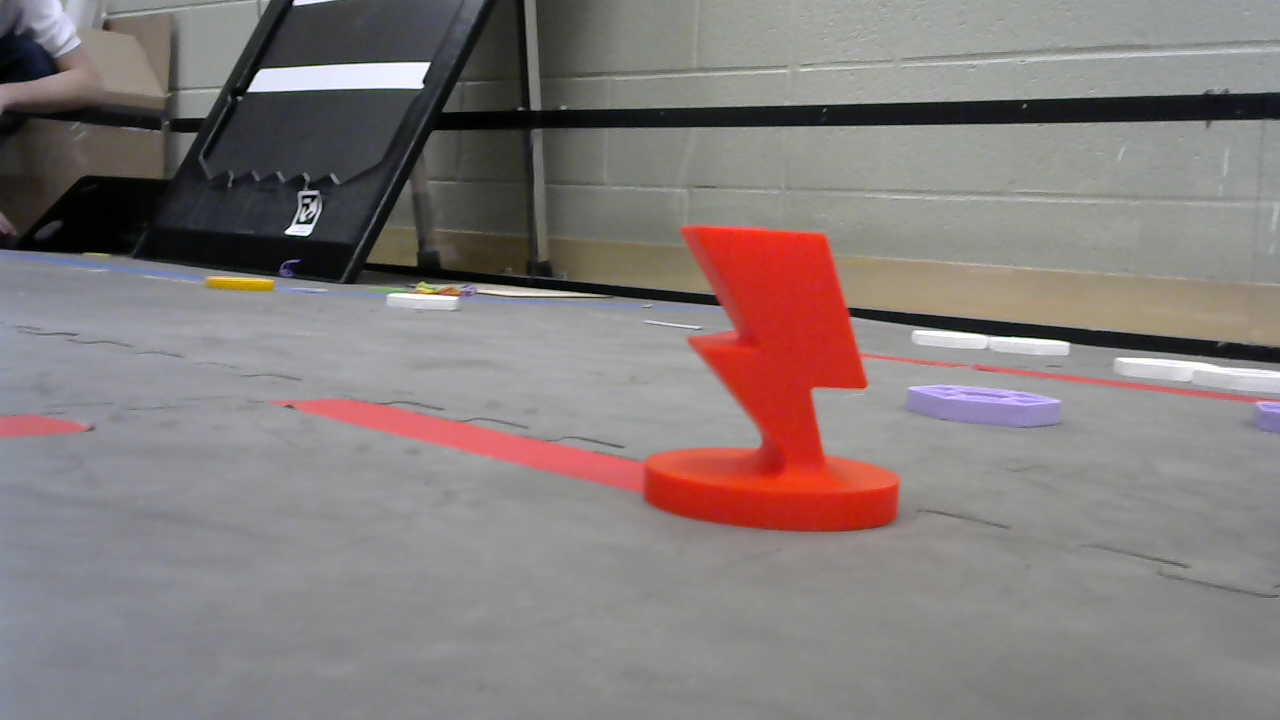redobject: (643, 223, 904, 533)
